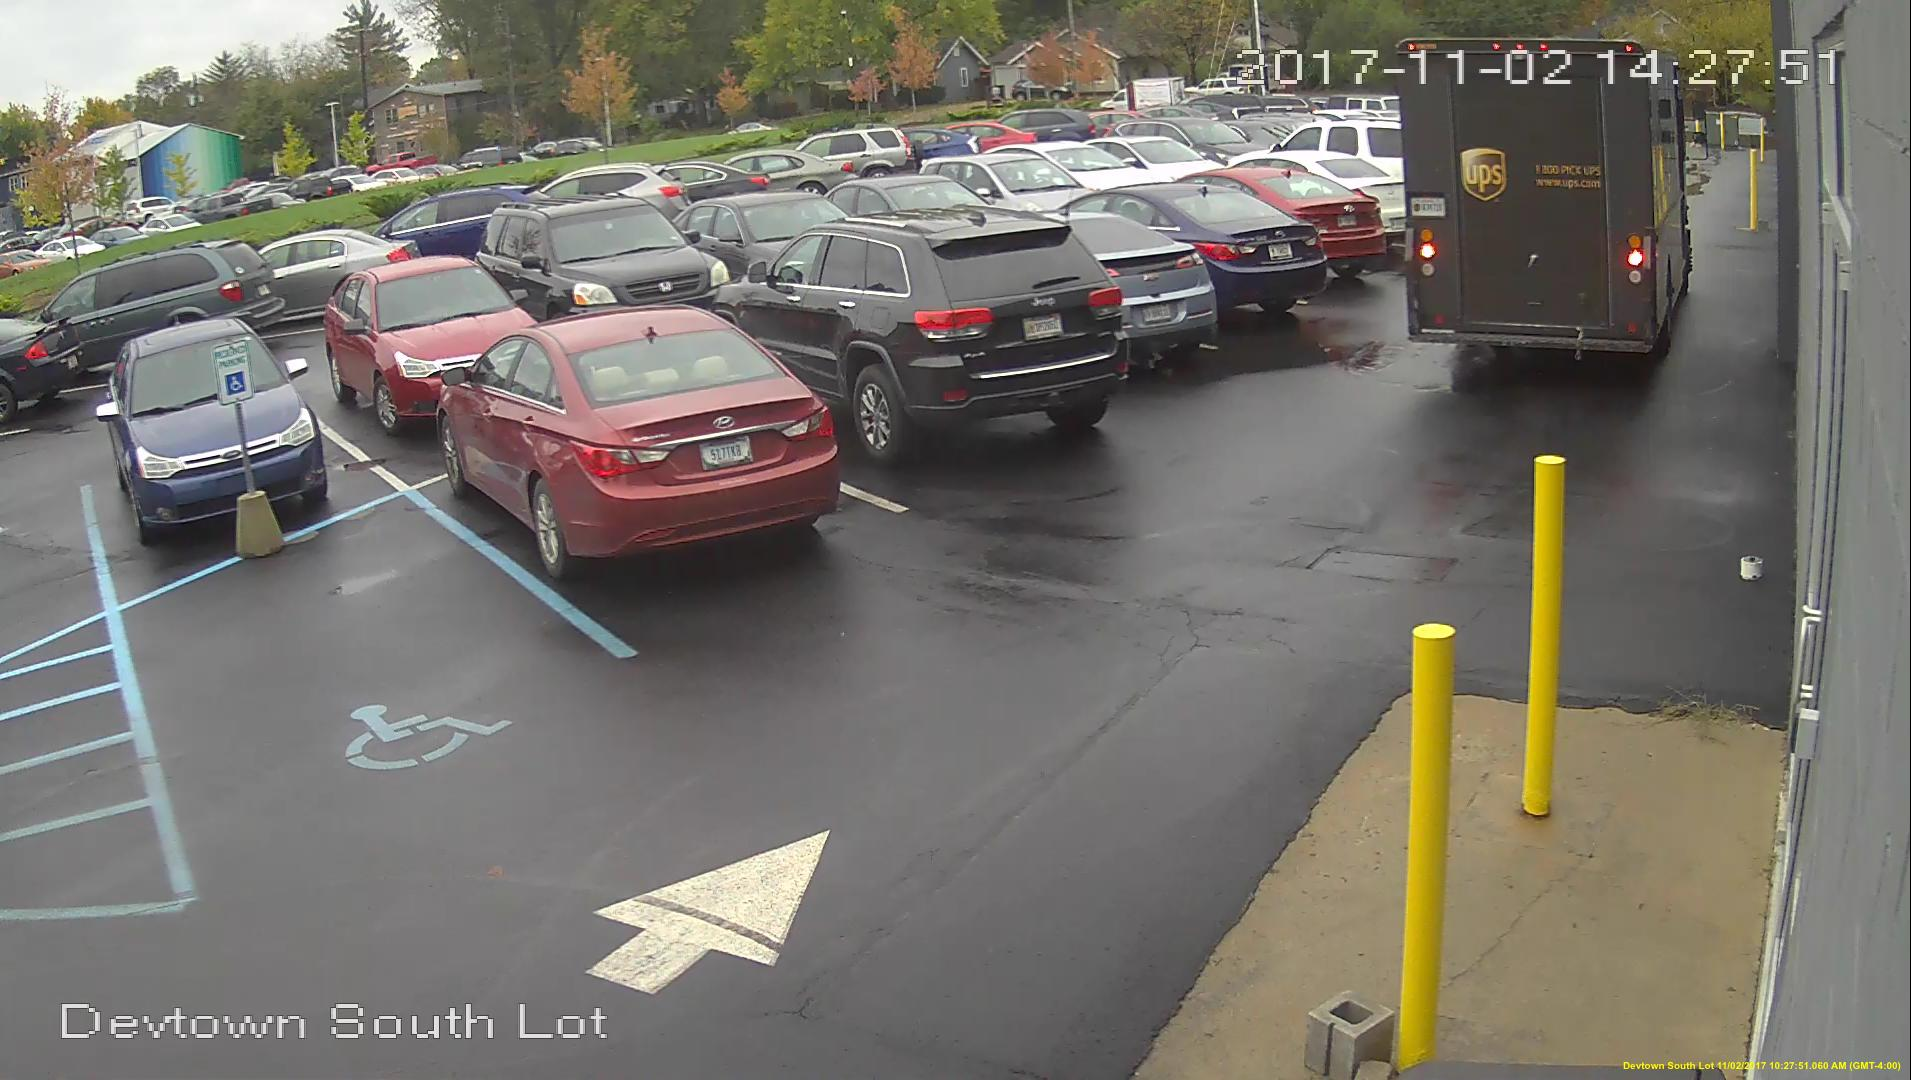ups_truck: (1408, 38, 1690, 373)
